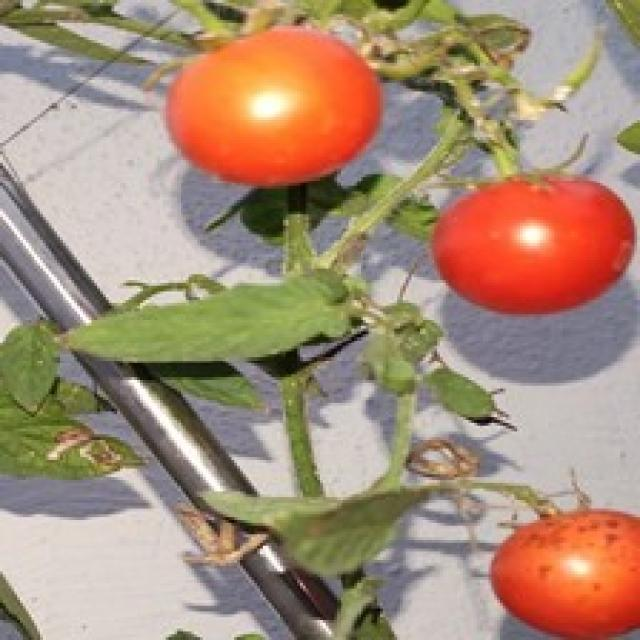tomato: (165, 37, 388, 169), (425, 172, 640, 308), (485, 500, 640, 625)
